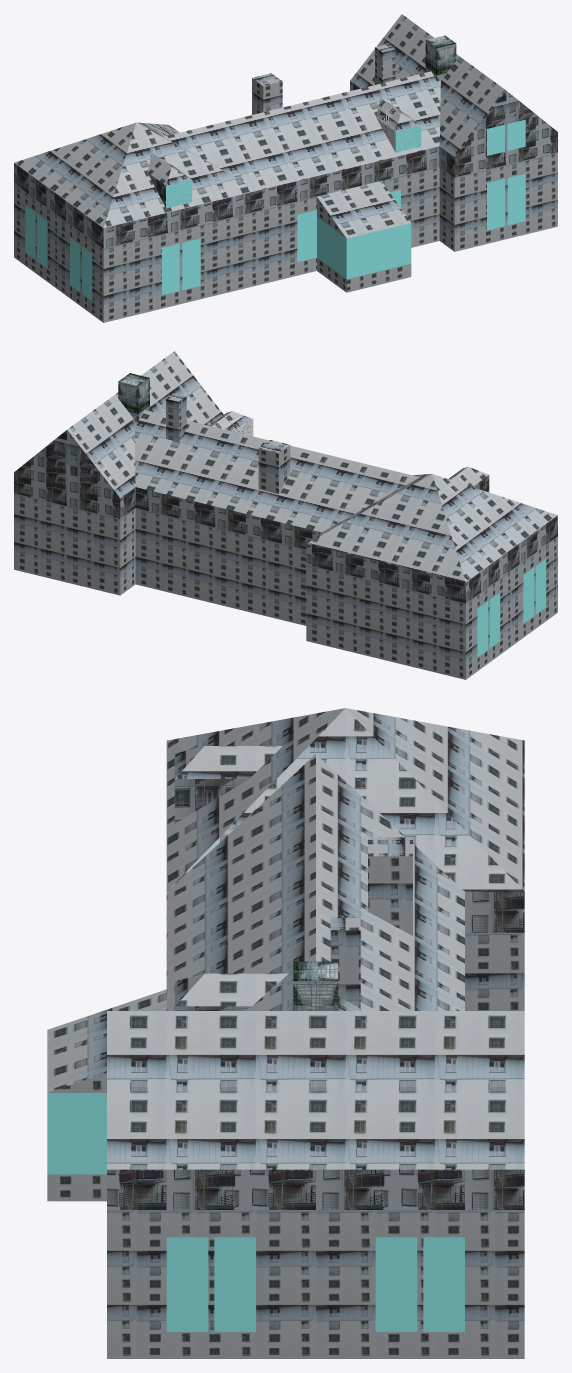
Rendered from KoPf_Empfang_Peter_lod2.dae.
3 renders of one model, top to bottom at view 1: azimuth 30°, elevation 25°; view 2: azimuth 150°, elevation 25°; view 3: azimuth 270°, elevation 25°, orthographic. The views are drawn at different scales.
Parts seen in each view (by area): view 1: SketchUp (×22); view 2: SketchUp (×12); view 3: SketchUp (×15).
Boxes of the visible parts, x1,y1,x2,y2 form: SketchUp (×22): (14,14,557,322); SketchUp (×12): (14,351,557,679); SketchUp (×15): (47,708,524,1358).
Bounding box in the file's own units: 1339 × 630 × 472.
